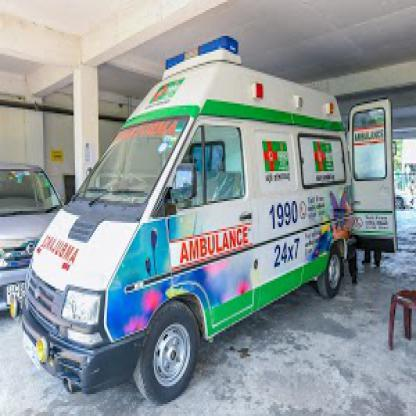van: (22, 42, 394, 406)
